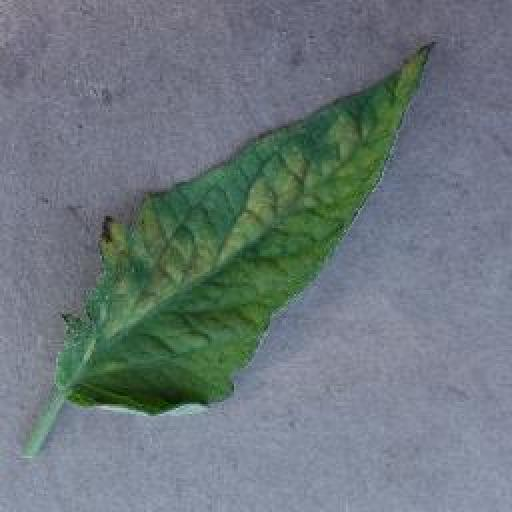Leaf Mold: (55, 40, 432, 423)
